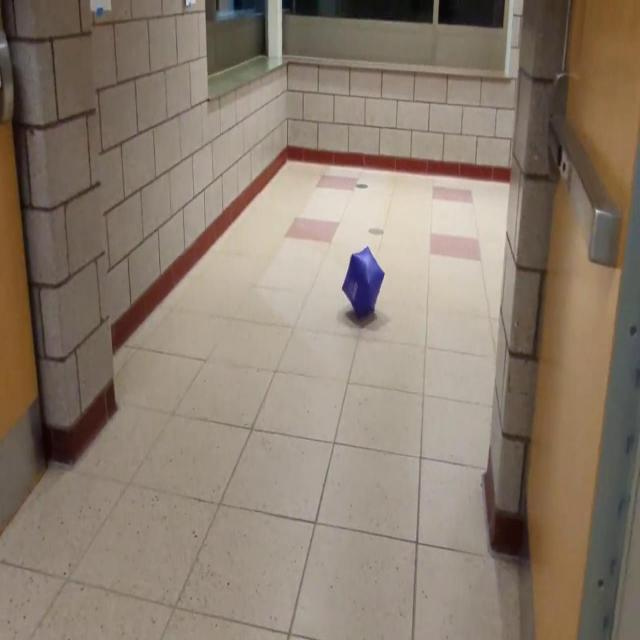frc_cube: (340, 246, 384, 316)
